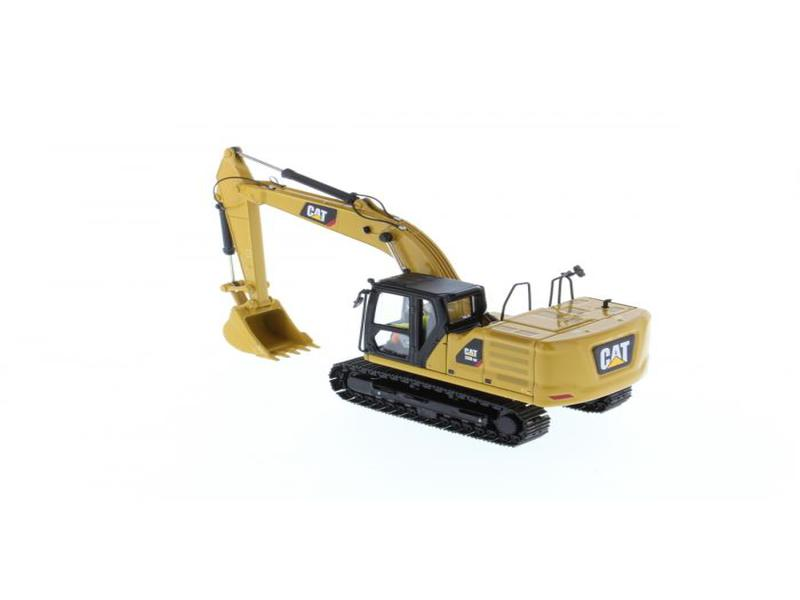shovel: (214, 137, 656, 453)
